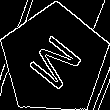M_SE: (22, 27, 87, 94)
